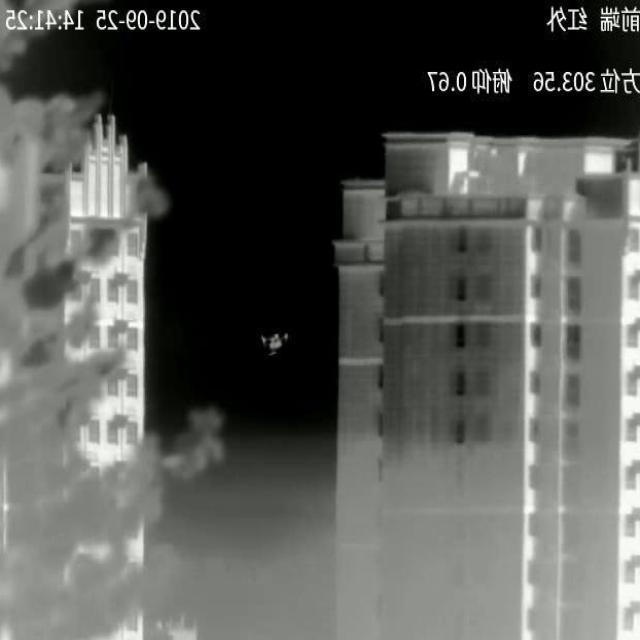drone: (263, 333, 288, 354)
